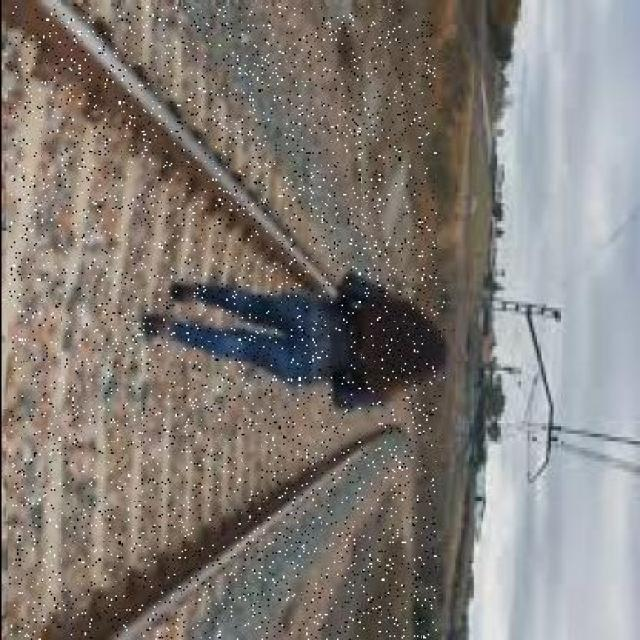rail: (9, 7, 436, 640)
